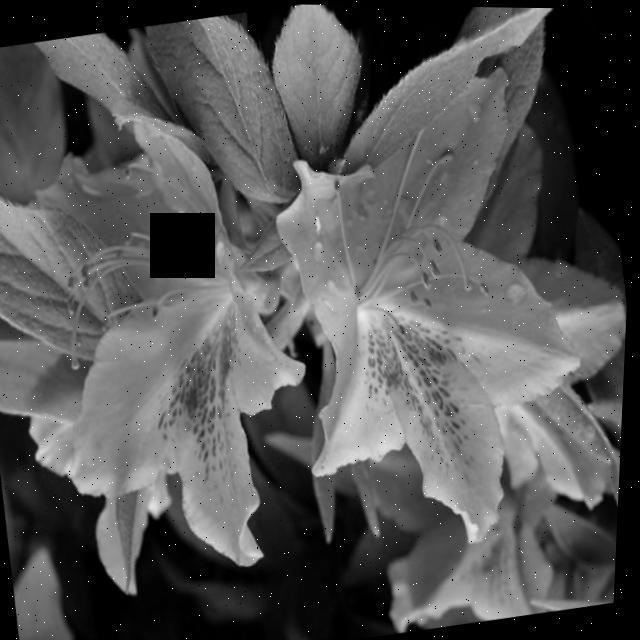azalea: (247, 42, 630, 555), (0, 96, 343, 581)
